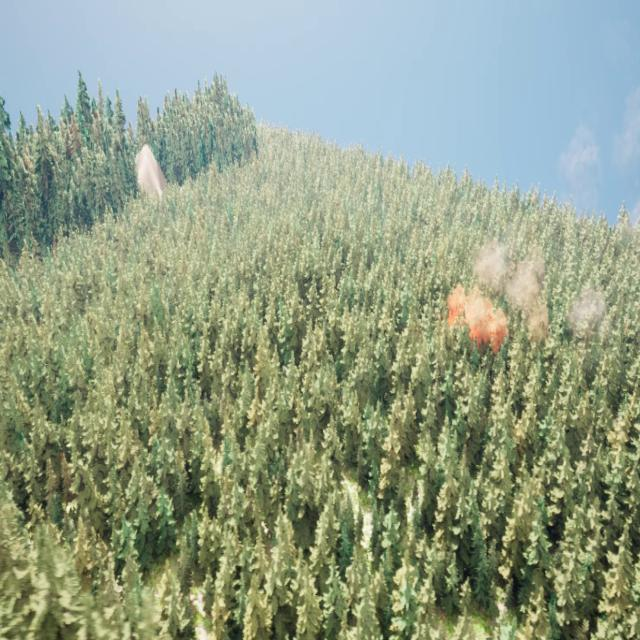fire: (444, 289, 498, 354)
smoke: (470, 87, 640, 332)
